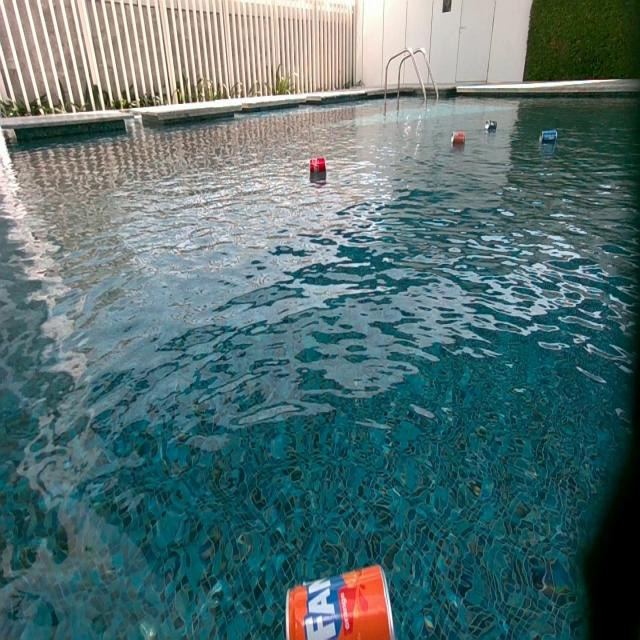Cans: (283, 562, 401, 636), (309, 159, 327, 176), (539, 131, 556, 146), (452, 132, 465, 148), (485, 118, 497, 130)
